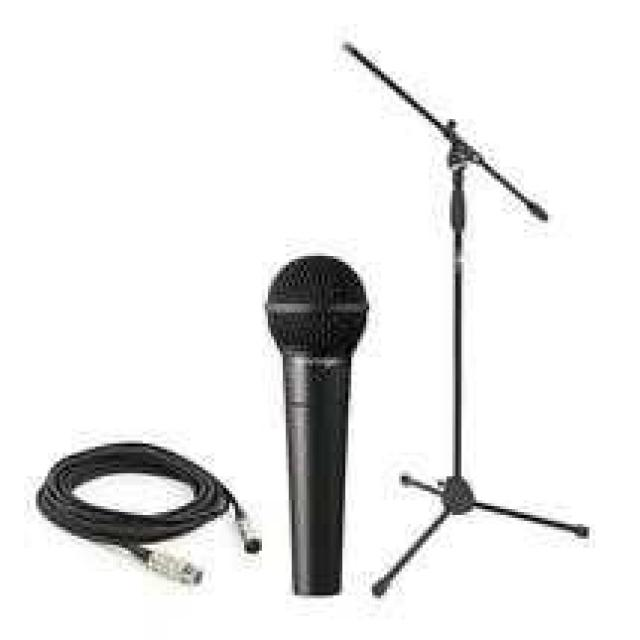microphone: (264, 250, 372, 597)
